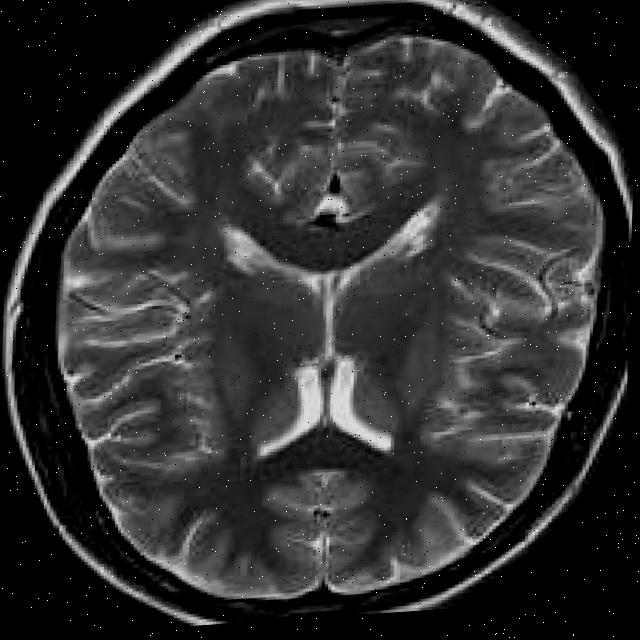NoTumor: (41, 15, 615, 619)
